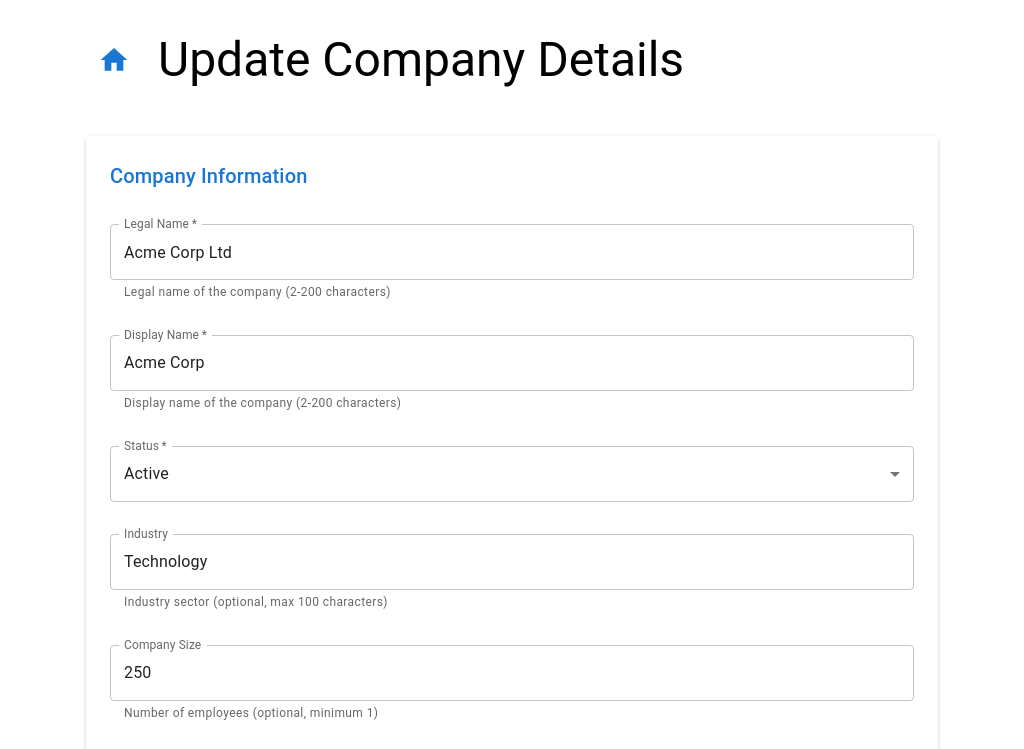
it: CompanyDetailsForm › status select › shows all four status options when opened
This screenshot has width=1024, height=749.
Press the mouse on the dropdown at (146, 474), box top-left (124, 464), bottom-right (169, 483)
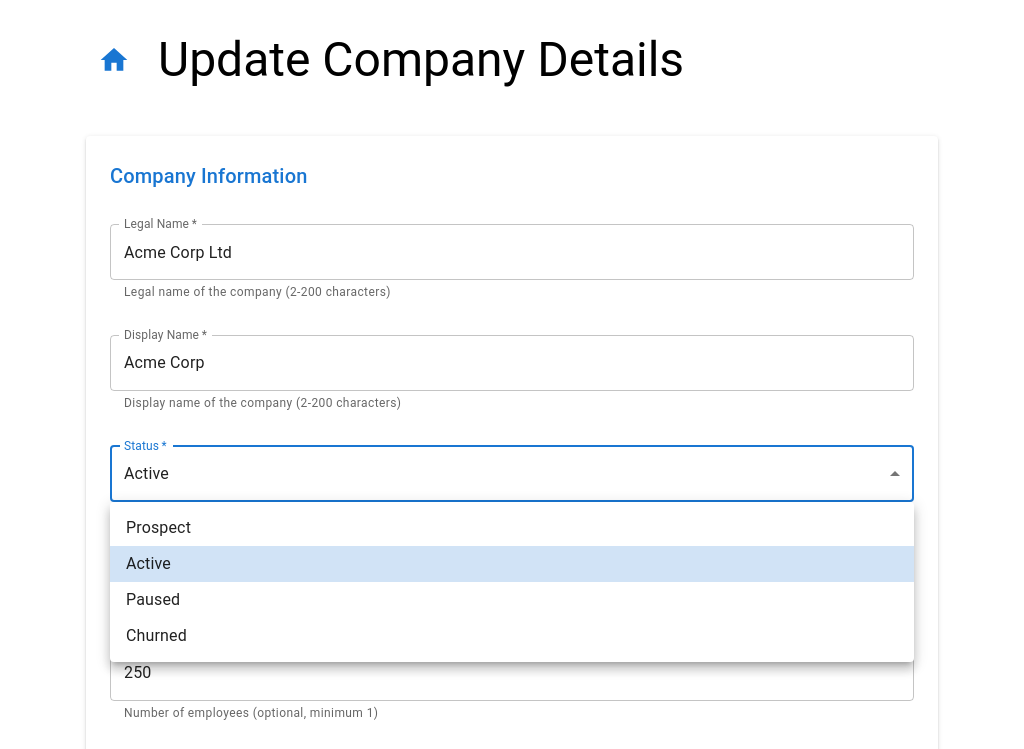
Check: the option "Prospect" is shown, box top-left (126, 518), bottom-right (191, 537)
Check: the option "Active" is shown, box top-left (110, 546), bottom-right (914, 582)
Check: the option "Paused" is shown, box top-left (126, 590), bottom-right (180, 609)
